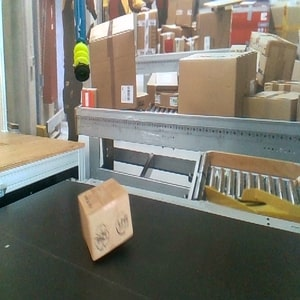box: (77, 178, 135, 263)
